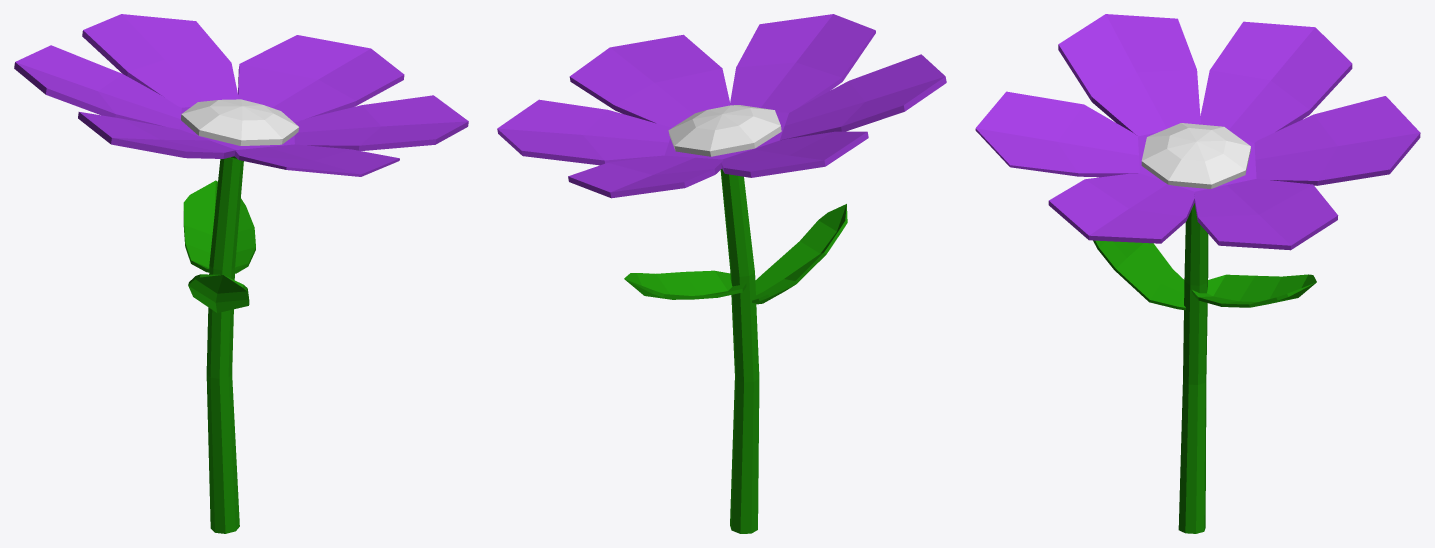
Rendered from flower-2.glb.
The picture shows the model from 3 angles, left to right: view 1: azimuth 30°, elevation 25°; view 2: azimuth 150°, elevation 25°; view 3: azimuth 270°, elevation 25°; orthographic projection. The views are drawn at different scales.
Visible parts, largest first — view 1: Flower 2; view 2: Flower 2; view 3: Flower 2.
Boxes of the visible parts, left/top/right/bottom form: Flower 2: left=14, top=14, right=468, bottom=533; Flower 2: left=497, top=14, right=946, bottom=533; Flower 2: left=975, top=14, right=1420, bottom=533.
Size of the model in its own units: 1.35 by 1.67 by 1.52.
